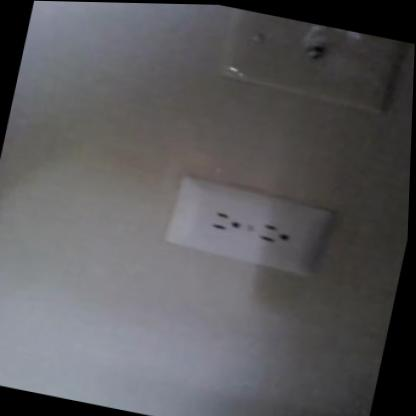OUTLET: (163, 173, 330, 278)
